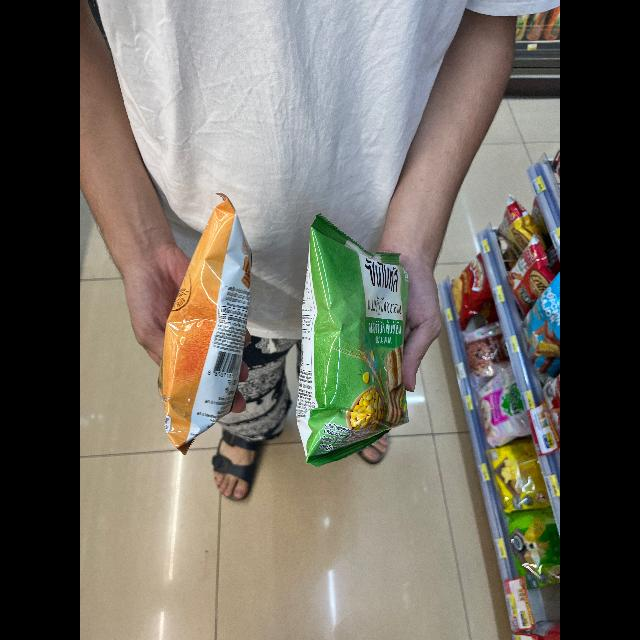snack_bag: (284, 216, 418, 469), (147, 186, 259, 462)
